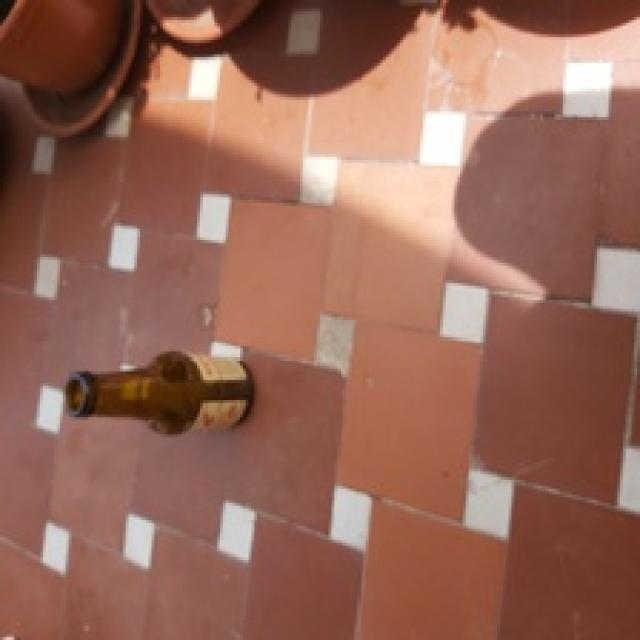Glass: (63, 348, 254, 436)
